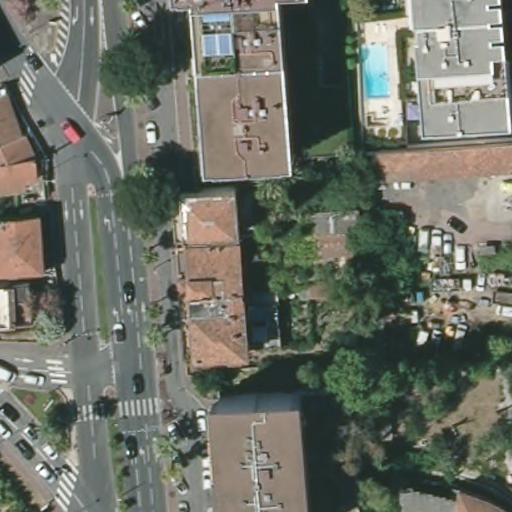pool: (357, 36, 392, 101)
